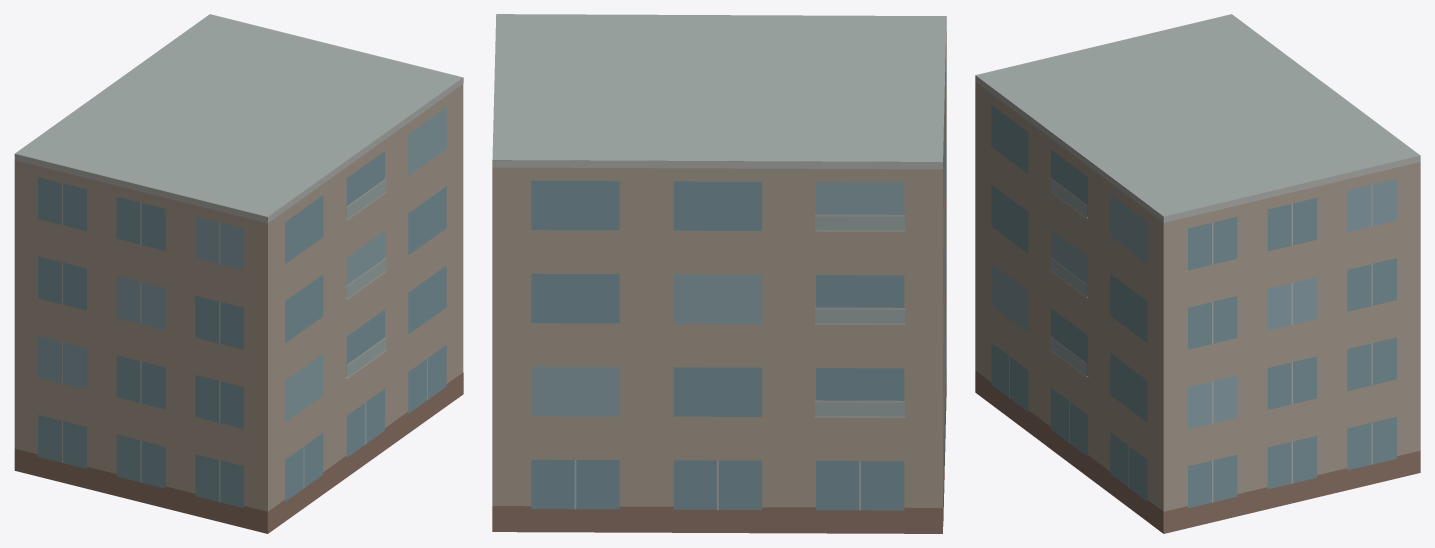
The model's file is residential-64c7cf5c-c9c0-4e74-9ce1-a24f9cad44ac.glb.
3 renders of one model, left to right at view 1: azimuth 30°, elevation 25°; view 2: azimuth 150°, elevation 25°; view 3: azimuth 270°, elevation 25°, orthographic. The views are drawn at different scales.
Parts seen in each view (by area): view 1: residential-64c7cf5c-c9c0-4e74-9ce1-a24f9cad44ac.tmp; view 2: residential-64c7cf5c-c9c0-4e74-9ce1-a24f9cad44ac.tmp; view 3: residential-64c7cf5c-c9c0-4e74-9ce1-a24f9cad44ac.tmp.
Part boxes in pixels (<box>): residential-64c7cf5c-c9c0-4e74-9ce1-a24f9cad44ac.tmp: <box>14,14,463,533</box>; residential-64c7cf5c-c9c0-4e74-9ce1-a24f9cad44ac.tmp: <box>492,14,946,533</box>; residential-64c7cf5c-c9c0-4e74-9ce1-a24f9cad44ac.tmp: <box>975,14,1420,533</box>.
Bounding box in the file's own units: 16.72 × 12.2 × 15.53.
